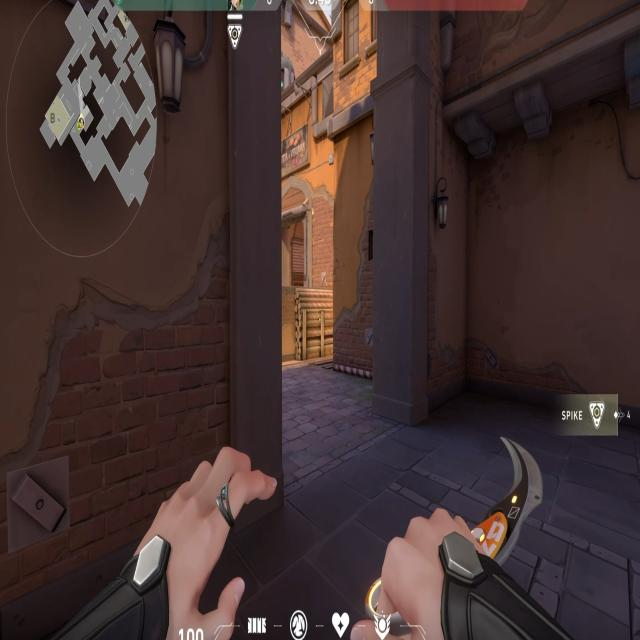B_Cubby: (282, 284, 337, 380)
